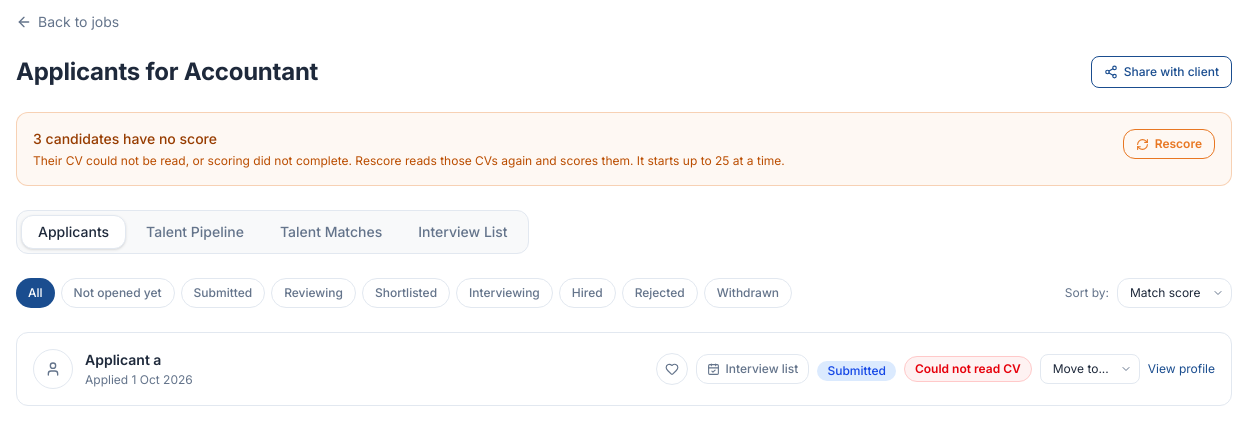
ApplicantsPage, applicants with no score › Rescore › says how many candidates have no score, and rescores them all when pressed
Expected: the text "3 candidates have no score" is shown, [33,130,217,147]
Step 1. Click the button "Rescore" → (1169, 144), box [1123,129,1215,159]
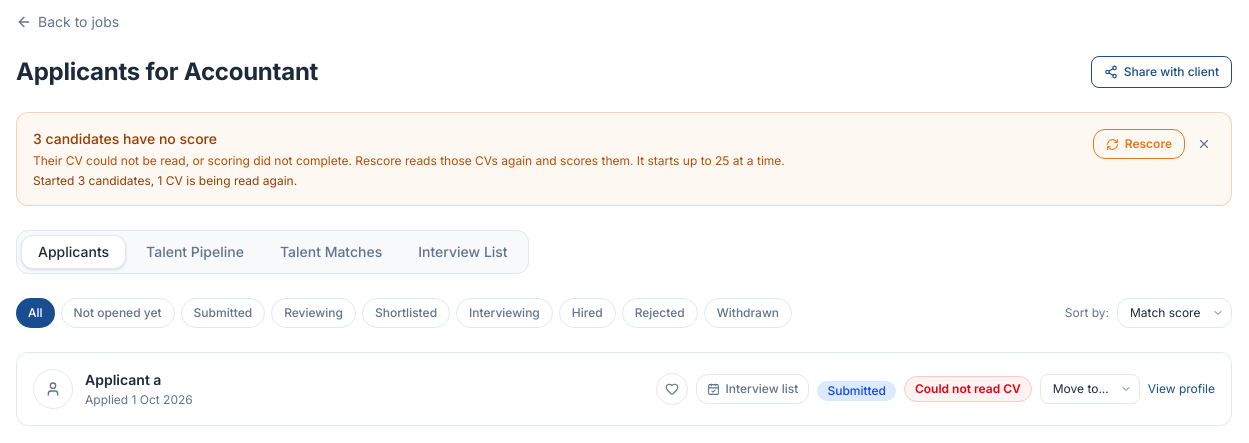
Expected: the message shows "Started 3 candidates, 1 CV is being read again", [33,173,297,188]
